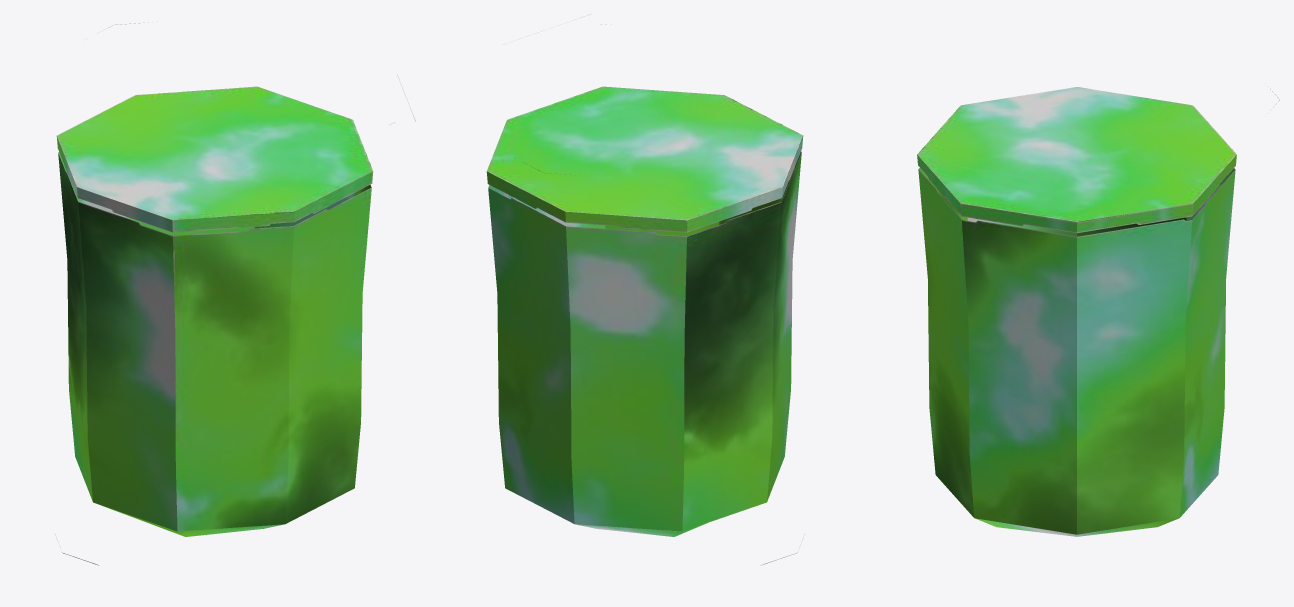
Rendered from Checkpoint1.fbx.
3 views of the same model, side by side, from view 1: azimuth 30°, elevation 25°; view 2: azimuth 150°, elevation 25°; view 3: azimuth 270°, elevation 25° (orthographic).
Parts seen in each view (by area): view 1: Checkpoint1; view 2: Checkpoint1; view 3: Checkpoint1.
Boxes of the visible parts, x1=… form: Checkpoint1: x1=55, y1=21, x2=415, y2=565; Checkpoint1: x1=486, y1=14, x2=804, y2=565; Checkpoint1: x1=917, y1=87, x2=1279, y2=536.
Bounding box in the file's own units: 20.17 × 24.42 × 20.17.
1 material, 1 textured.
